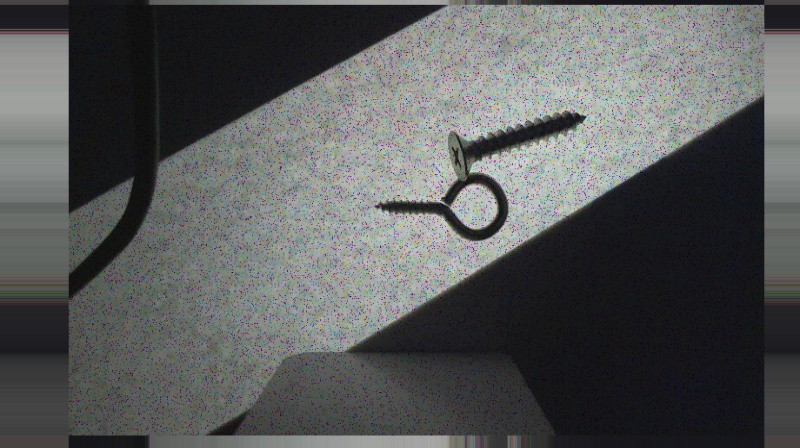O001: (373, 170, 511, 243)
S001: (446, 108, 587, 181)
